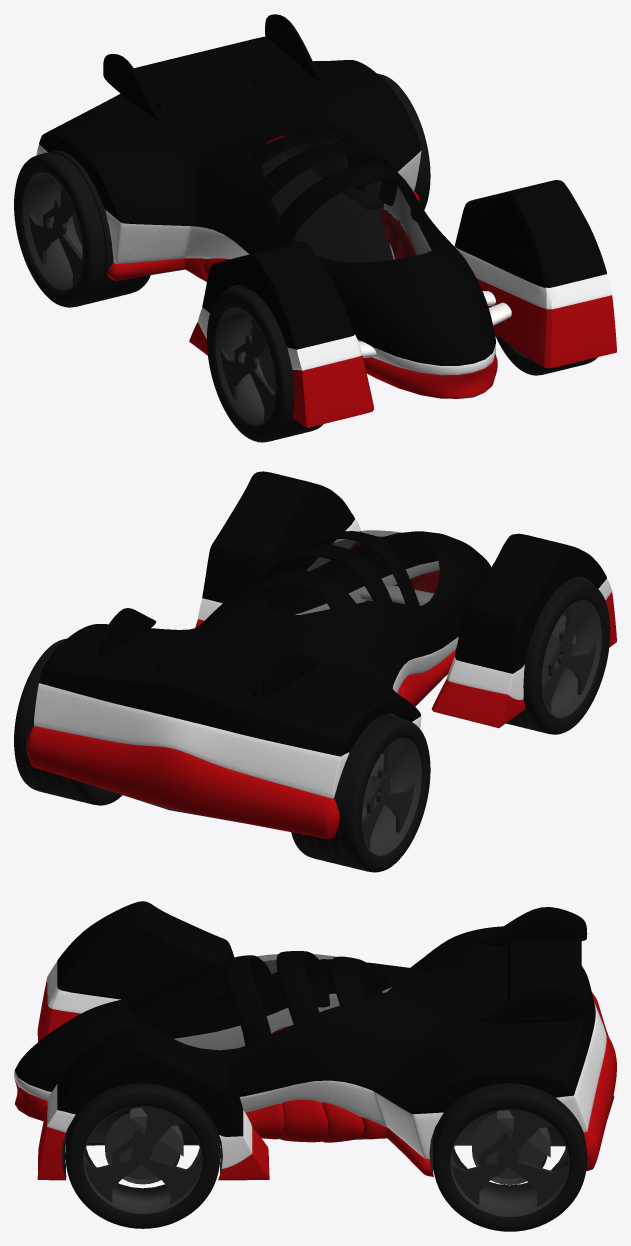
3 renders of one model, top to bottom at view 1: azimuth 30°, elevation 25°; view 2: azimuth 150°, elevation 25°; view 3: azimuth 270°, elevation 25°, orthographic.
Parts seen in each view (by area): view 1: body_paint_base, body_paint_trim_2, tire_speed (×4), body_paint_trim_1, body_glass, body_trim, rim_barrel_speed (×2), rim_face_speed (×2); view 2: body_paint_base, body_paint_trim_2, body_paint_trim_1, tire_speed (×3), body_glass, rim_barrel_speed (×2), rim_face_speed (×2); view 3: body_paint_base, tire_speed (×2), body_paint_trim_1, body_paint_trim_2, body_glass, rim_face_speed (×2), rim_barrel_speed (×2), brake_disc_speed (×2), body_trim, caliper_speed (×2).
Part boxes in pixels (box(x1,y1,x2,y2)): body_paint_base: box(39, 14, 606, 365); body_paint_trim_2: box(107, 136, 616, 427); tire_speed (×4): box(14, 73, 597, 442); body_paint_trim_1: box(36, 144, 612, 374); body_glass: box(251, 127, 442, 263); body_trim: box(52, 135, 546, 409); rim_barrel_speed (×2): box(22, 172, 275, 425); rim_face_speed (×2): box(29, 185, 274, 421); body_paint_base: box(39, 471, 606, 756); body_paint_trim_2: box(26, 542, 616, 838); body_paint_trim_1: box(34, 519, 612, 798); tire_speed (×3): box(14, 578, 610, 872); body_glass: box(251, 530, 442, 626); rim_barrel_speed (×2): box(361, 599, 601, 855); rim_face_speed (×2): box(362, 600, 595, 849); body_paint_base: box(14, 901, 595, 1136); tire_speed (×2): box(65, 1083, 587, 1231); body_paint_trim_1: box(14, 962, 606, 1168); body_paint_trim_2: box(15, 979, 616, 1180); body_glass: box(127, 954, 415, 1050); rim_face_speed (×2): box(85, 1107, 567, 1206); rim_barrel_speed (×2): box(83, 1106, 569, 1216); brake_disc_speed (×2): box(105, 1112, 547, 1184); body_trim: box(15, 1095, 614, 1177); caliper_speed (×2): box(130, 1107, 550, 1157).
Size of the model in its own units: 2.55 by 1.49 by 3.94.
